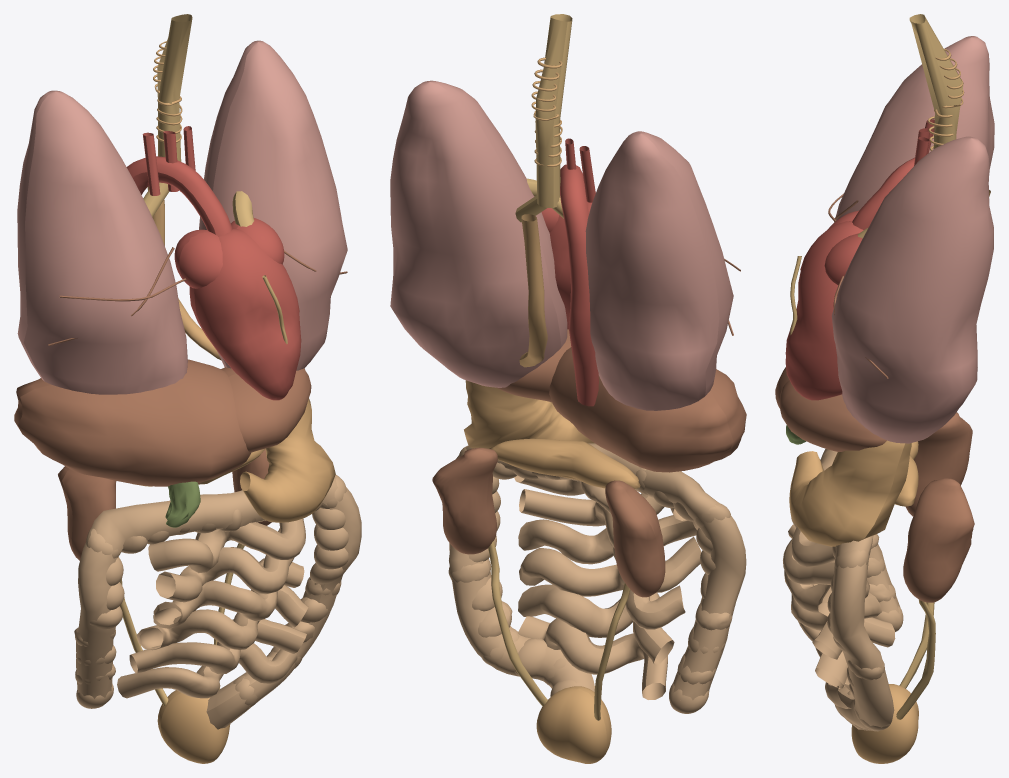
The model's file is viscera-male-v2-hJK1M-xR.glb.
3 views of the same model, side by side, from view 1: azimuth 30°, elevation 25°; view 2: azimuth 150°, elevation 25°; view 3: azimuth 270°, elevation 25° (orthographic). The views are drawn at different scales.
Visible parts, largest first — view 1: Visceral teaching layer; view 2: Visceral teaching layer; view 3: Visceral teaching layer.
Boxes of the visible parts, x1,y1,x2,y2 form: Visceral teaching layer: (14,14,361,763); Visceral teaching layer: (390,14,746,763); Visceral teaching layer: (775,14,994,763).
Size of the model in its own units: 0.2857 by 0.6252 by 0.1674.
